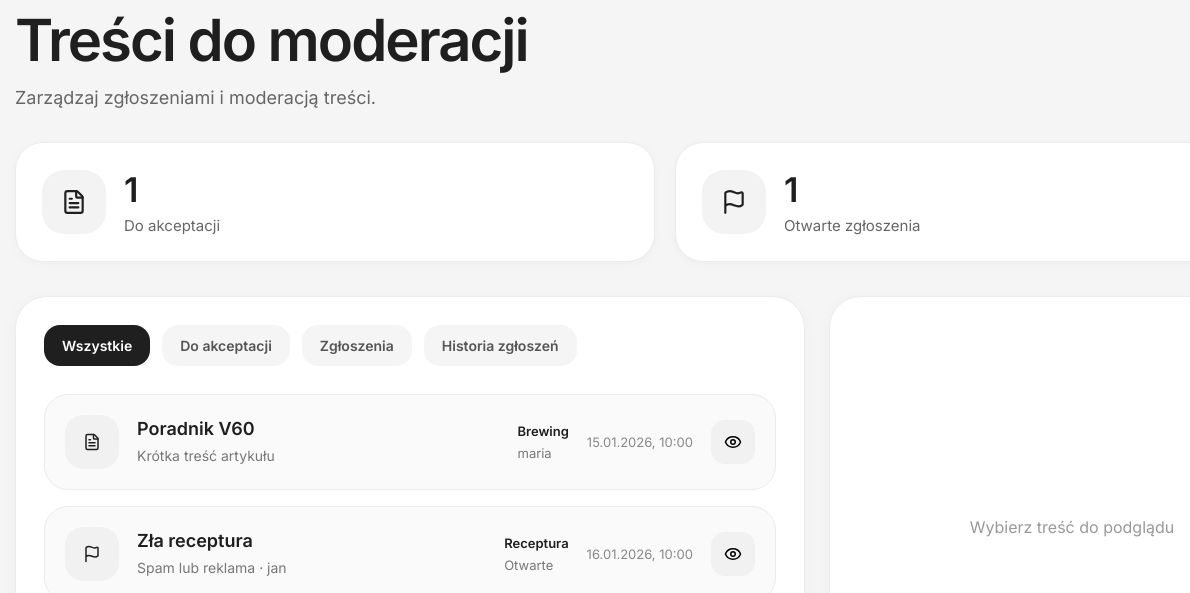
Scenario: AdminModeration › filters items by moderation type
expect the heading "Poradnik V60" is shown: met, box [137,418,255,439]
Click the button "Do akceptacji".
click(226, 346)  # box [162,325,290,366]
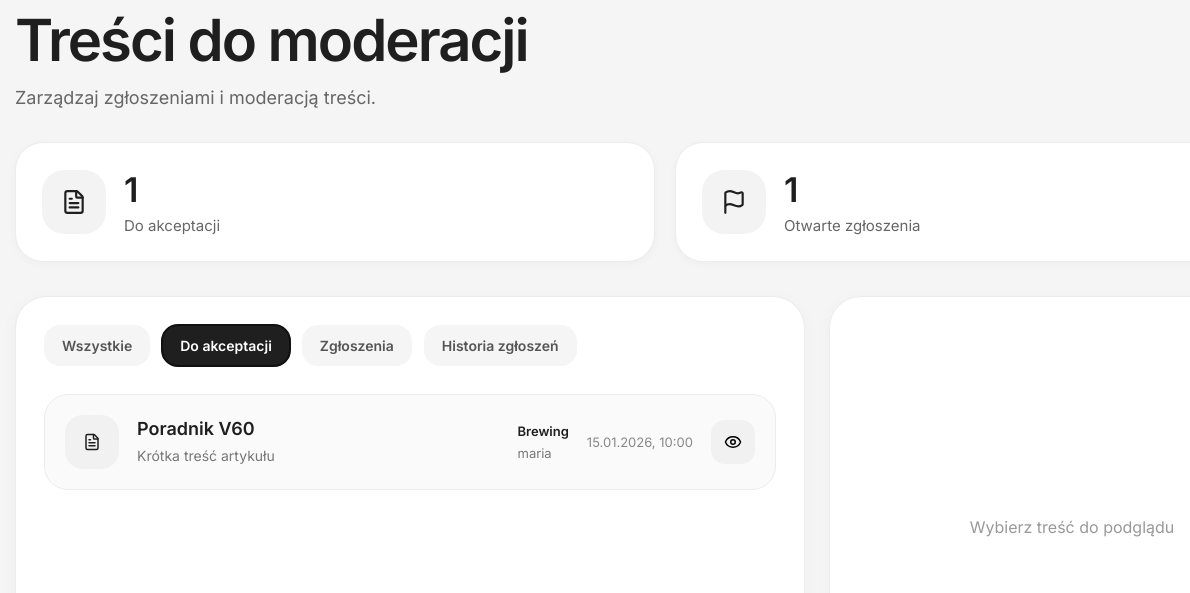
expect the heading "Poradnik V60" is shown: met, box [137,418,255,439]
expect the heading "Zła receptura" is gone: met
Click the button "Zgłoszenia".
click(357, 346)  # box [302,325,412,366]
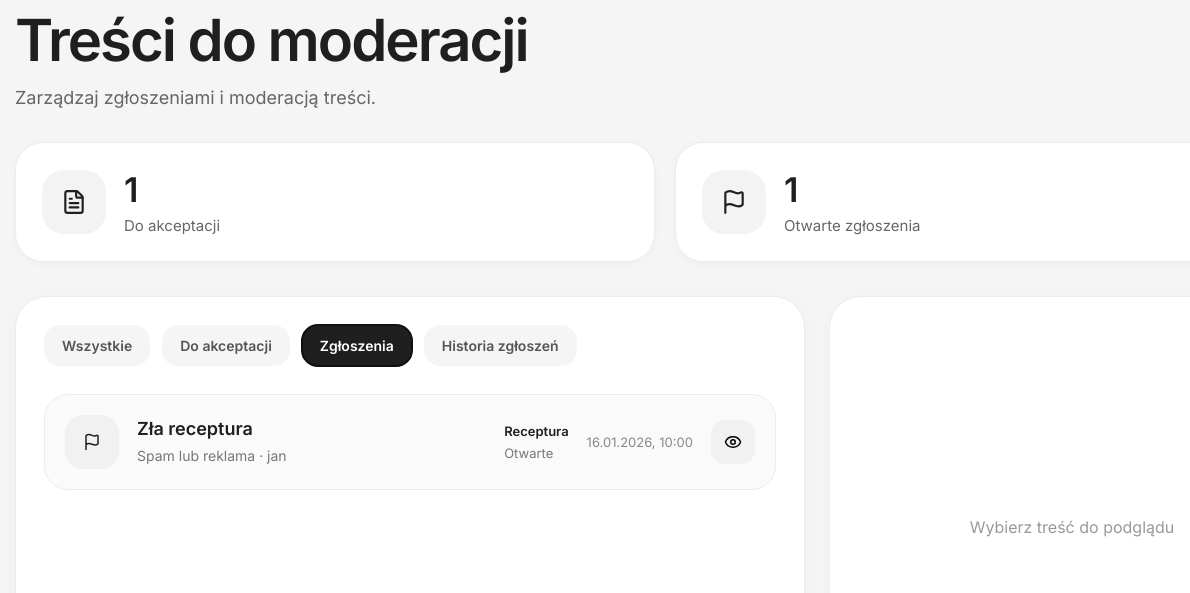
expect the heading "Zła receptura" is shown: met, box [137,418,253,439]
expect the heading "Poradnik V60" is gone: met
Click the button "Historia zgłoszeń".
click(500, 346)  # box [424,325,577,366]
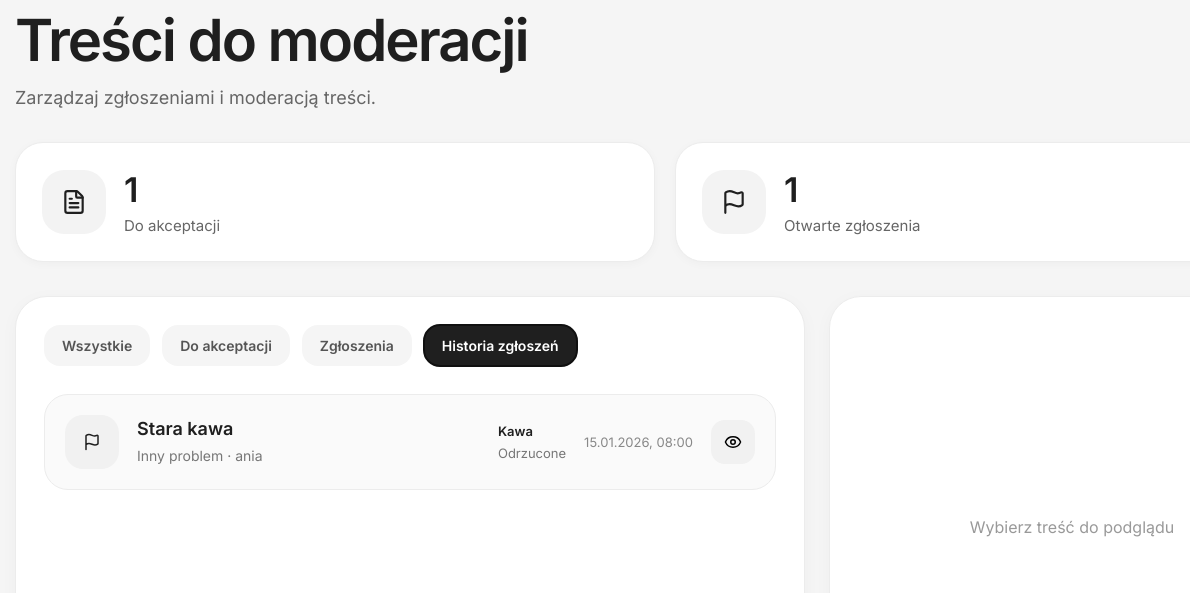
expect the heading "Stara kawa" is shown: met, box [137,418,233,439]
expect the heading "Zła receptura" is gone: met
